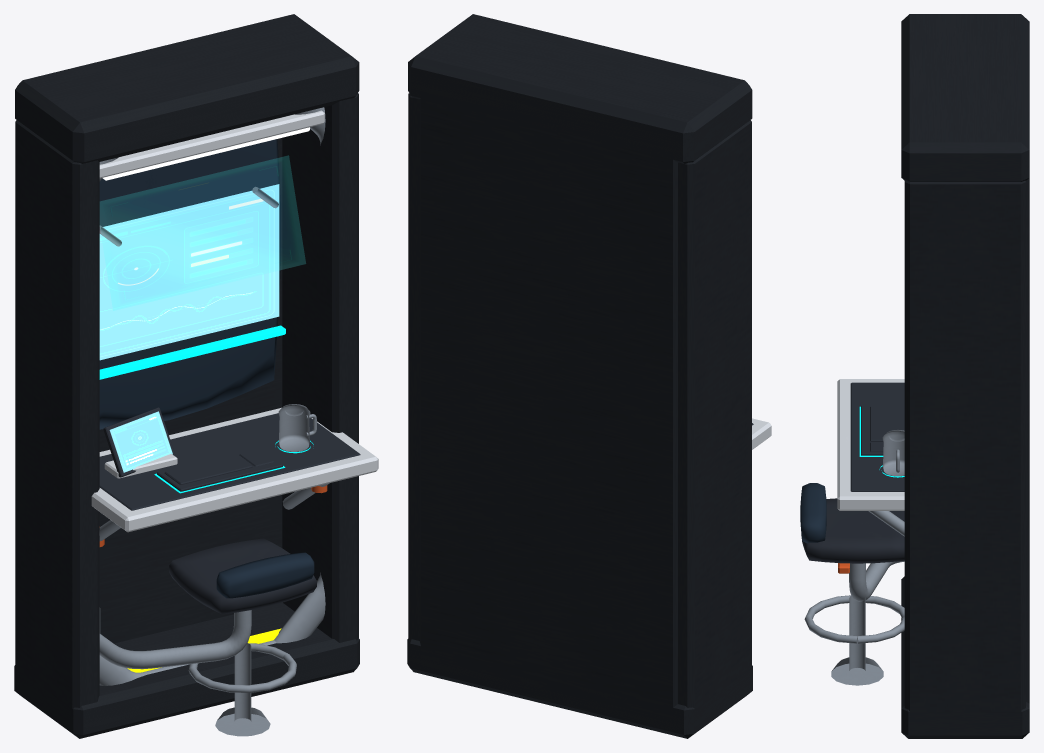
Rendered from walldesk_r1_01.glb.
3 renders of one model, left to right at view 1: azimuth 30°, elevation 25°; view 2: azimuth 150°, elevation 25°; view 3: azimuth 270°, elevation 25°, orthographic. The views are drawn at different scales.
Visible parts, largest first — view 1: WallDesk01_OctagonalGunmetalHull, WallDesk01_WidescreenOLEDTerminal, WallDesk01_OrbitalNavyAcousticBackwall, WallDesk01_FloatingHoloHUDCombiner, WallDesk01_MachinedStrutsStoolAndMug, WallDesk01_CarbonSlateInlayAndPad, WallDesk01_AerospaceWhiteDeskLeaf, WallDesk01_CharcoalStoolCushion, WallDesk01_DockedDatapadOLED, WallDesk01_CyanCoasterAndCove, WallDesk01_OverheadTaskLightIce; view 2: WallDesk01_OctagonalGunmetalHull; view 3: WallDesk01_OctagonalGunmetalHull, WallDesk01_MachinedStrutsStoolAndMug, WallDesk01_CarbonSlateInlayAndPad, WallDesk01_CharcoalStoolCushion, WallDesk01_AerospaceWhiteDeskLeaf, WallDesk01_OrbitalNavyAcousticBackwall.
Part boxes in pixels (box(x1,y1,x2,y2)): WallDesk01_OctagonalGunmetalHull: box(14, 14, 359, 738); WallDesk01_WidescreenOLEDTerminal: box(99, 184, 279, 360); WallDesk01_OrbitalNavyAcousticBackwall: box(99, 139, 314, 598); WallDesk01_FloatingHoloHUDCombiner: box(100, 156, 305, 310); WallDesk01_MachinedStrutsStoolAndMug: box(99, 107, 329, 736); WallDesk01_CarbonSlateInlayAndPad: box(99, 407, 360, 510); WallDesk01_AerospaceWhiteDeskLeaf: box(91, 110, 378, 532); WallDesk01_CharcoalStoolCushion: box(169, 538, 316, 614); WallDesk01_DockedDatapadOLED: box(109, 411, 172, 472); WallDesk01_CyanCoasterAndCove: box(99, 325, 313, 493); WallDesk01_OverheadTaskLightIce: box(102, 127, 309, 180); WallDesk01_OctagonalGunmetalHull: box(407, 14, 752, 738); WallDesk01_OctagonalGunmetalHull: box(901, 14, 1029, 738); WallDesk01_MachinedStrutsStoolAndMug: box(804, 430, 904, 685); WallDesk01_CarbonSlateInlayAndPad: box(850, 382, 904, 491); WallDesk01_CharcoalStoolCushion: box(801, 498, 904, 563); WallDesk01_AerospaceWhiteDeskLeaf: box(837, 379, 904, 510); WallDesk01_OrbitalNavyAcousticBackwall: box(800, 483, 826, 543).
Bounding box in the file's own units: 0.95 × 1.95 × 0.679.
Materials: 13 (13 with a texture image).
